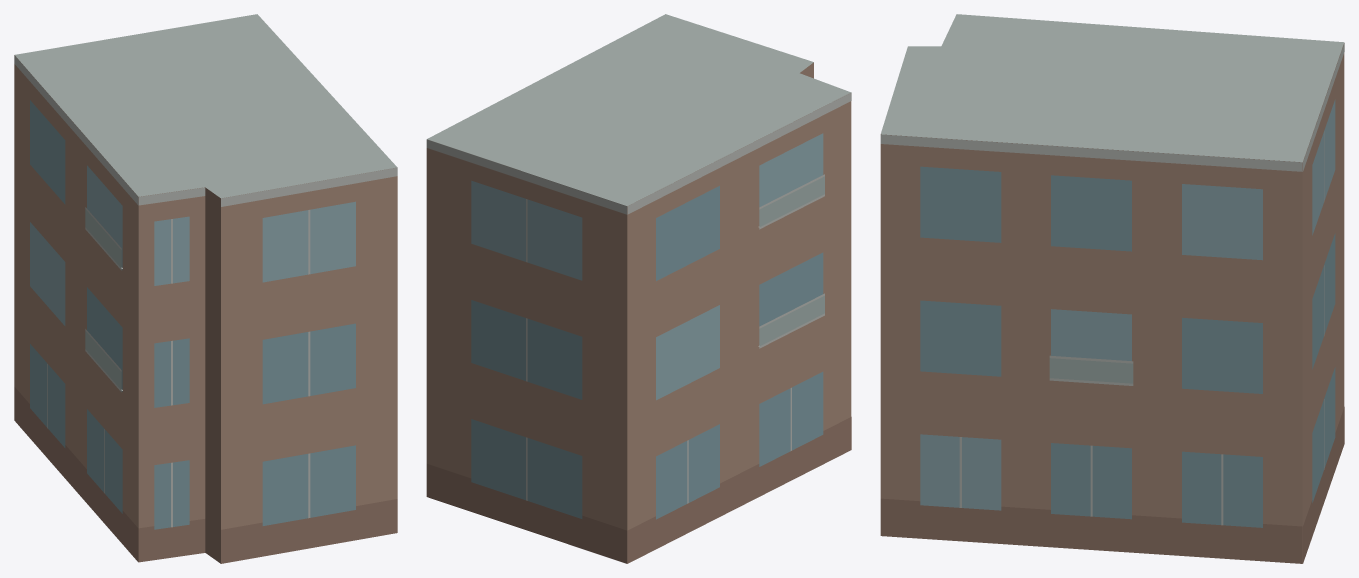
The model's file is survey-upis-32659640.glb.
The picture shows the model from 3 angles, left to right: view 1: azimuth 30°, elevation 25°; view 2: azimuth 150°, elevation 25°; view 3: azimuth 270°, elevation 25°; orthographic projection. The views are drawn at different scales.
Visible parts, largest first — view 1: survey-upis-32659640.tmp; view 2: survey-upis-32659640.tmp; view 3: survey-upis-32659640.tmp.
Boxes of the visible parts, x1,y1,x2,y2 form: survey-upis-32659640.tmp: [14, 14, 397, 563]; survey-upis-32659640.tmp: [426, 14, 851, 563]; survey-upis-32659640.tmp: [880, 14, 1344, 563].
Bounding box in the file's own units: 8.09 × 10.2 × 10.69.
